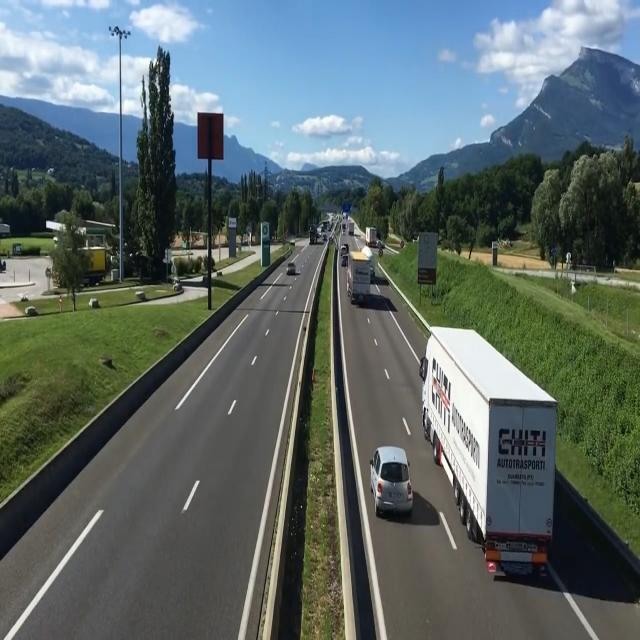car: (370, 441, 416, 523), (286, 261, 297, 278)
truck: (422, 324, 559, 557), (349, 254, 370, 313), (363, 226, 378, 245), (308, 224, 317, 246)
